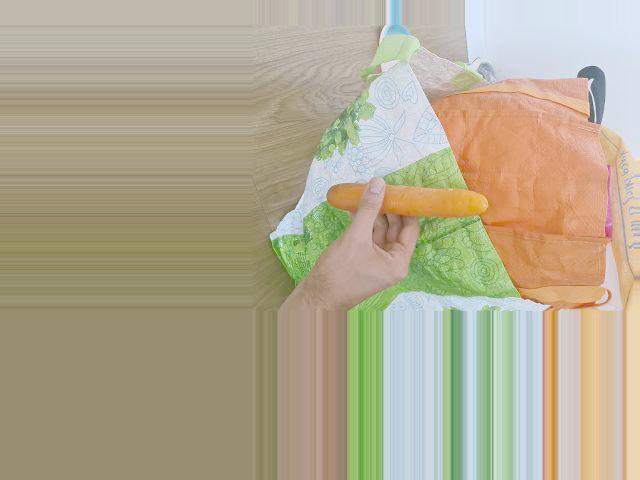carrot: (327, 185, 483, 212)
